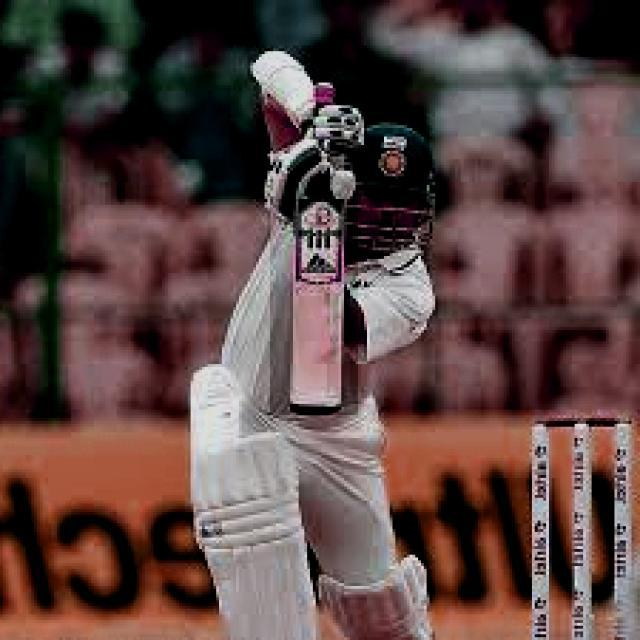bat: (288, 204, 344, 417)
toe: (286, 399, 346, 418)
